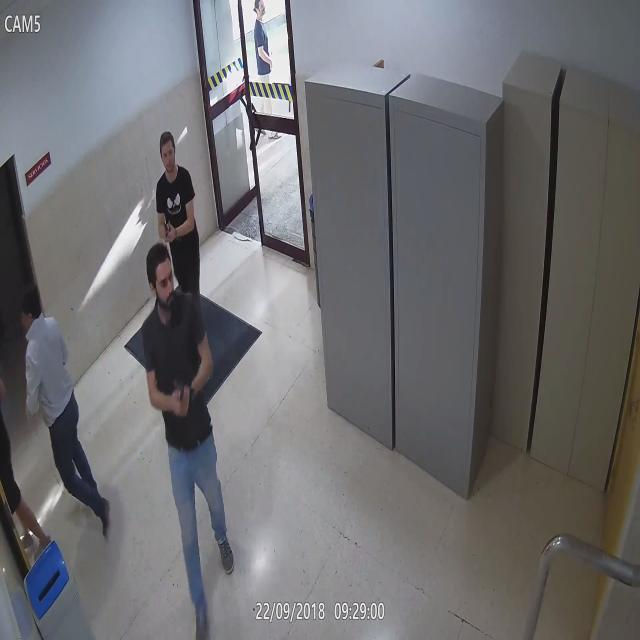Gun: (166, 357, 208, 420)
